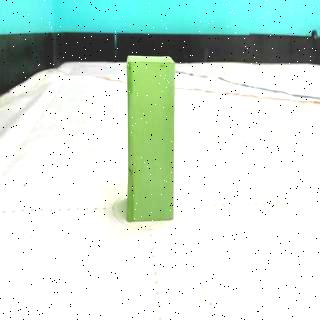greenbox: (126, 55, 174, 223)
